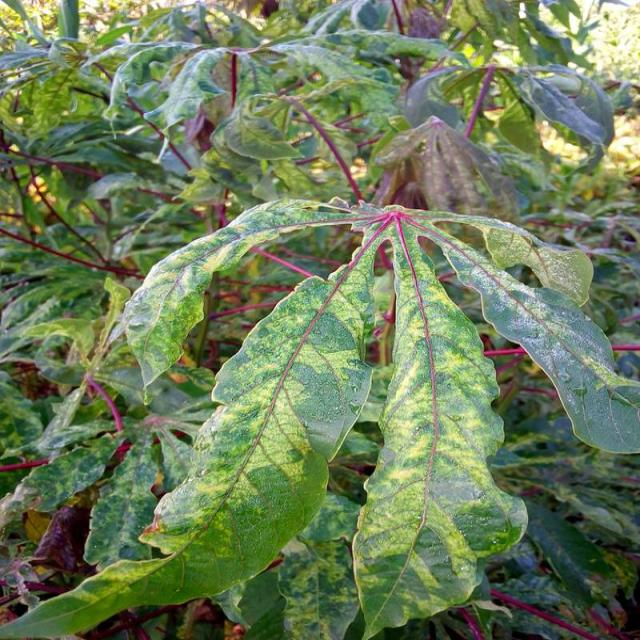cassava leaf: (352, 211, 530, 636)
